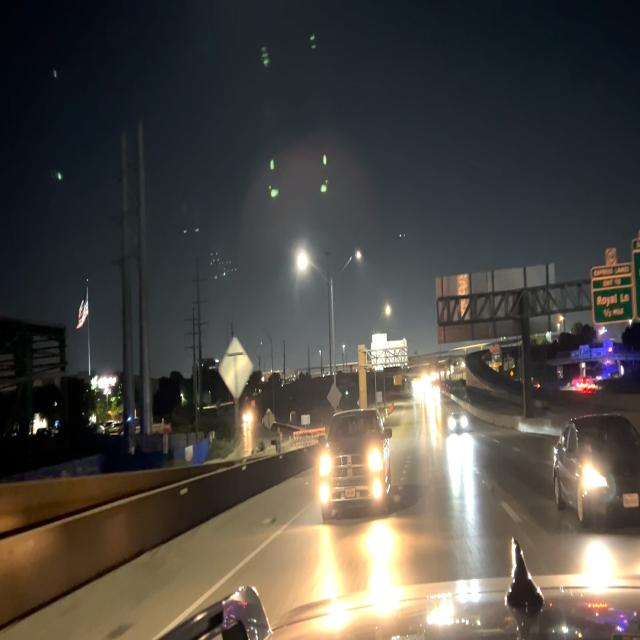back-of-sign: (438, 266, 555, 341), (218, 338, 254, 400), (371, 332, 409, 370)
